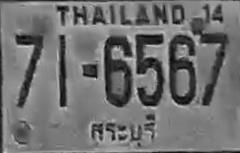1: (58, 33, 68, 107)
5: (135, 33, 164, 106)
6: (103, 35, 132, 106), (168, 34, 196, 105)
7: (14, 32, 44, 108), (199, 30, 229, 106)
SRI: (84, 114, 160, 147)
